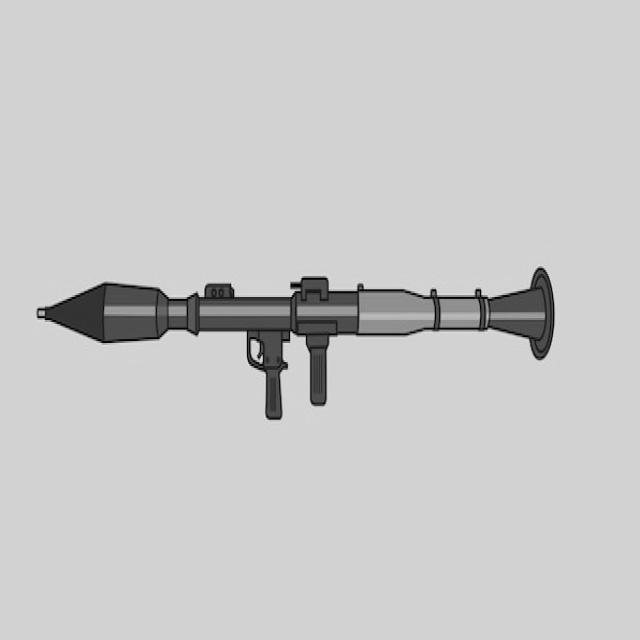Weapon: (38, 268, 554, 418)
